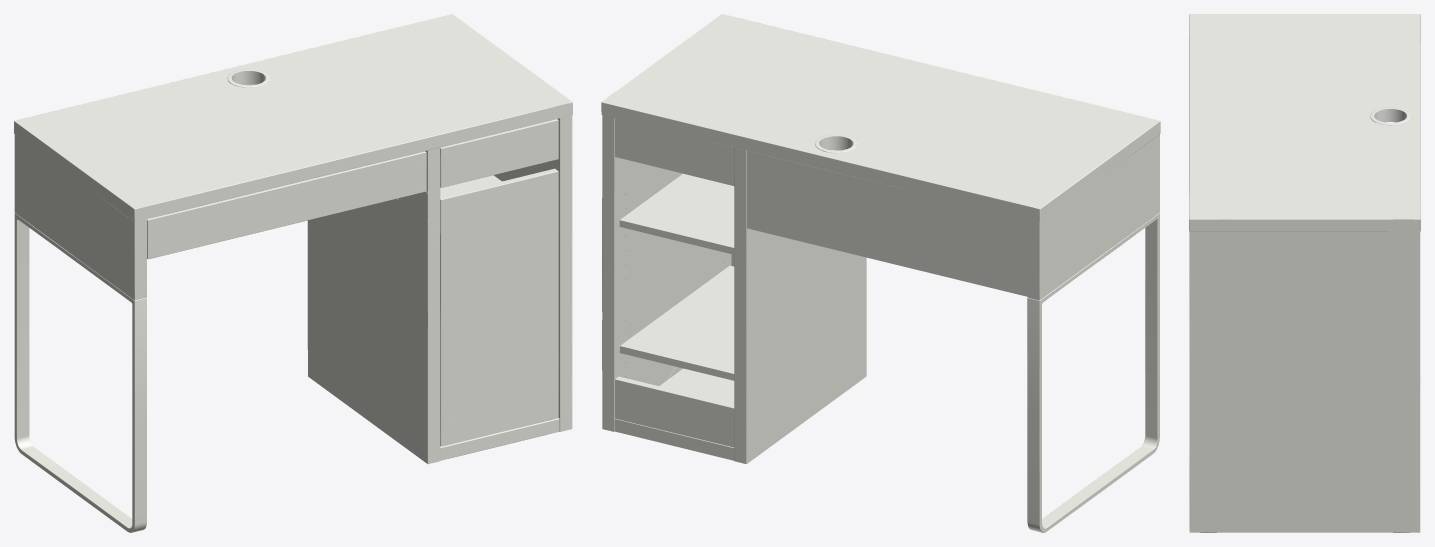
The picture shows the model from 3 angles, left to right: view 1: azimuth 30°, elevation 25°; view 2: azimuth 150°, elevation 25°; view 3: azimuth 270°, elevation 25°; orthographic projection. The views are drawn at different scales.
Parts seen in each view (by area): view 1: model; view 2: model; view 3: model.
Part boxes in pixels (<box>): model: <box>14,14,572,532</box>; model: <box>601,14,1160,532</box>; model: <box>1189,14,1420,532</box>.
Size of the model in its own units: 1.05 by 0.7535 by 0.5.
1 material, 1 textured.
